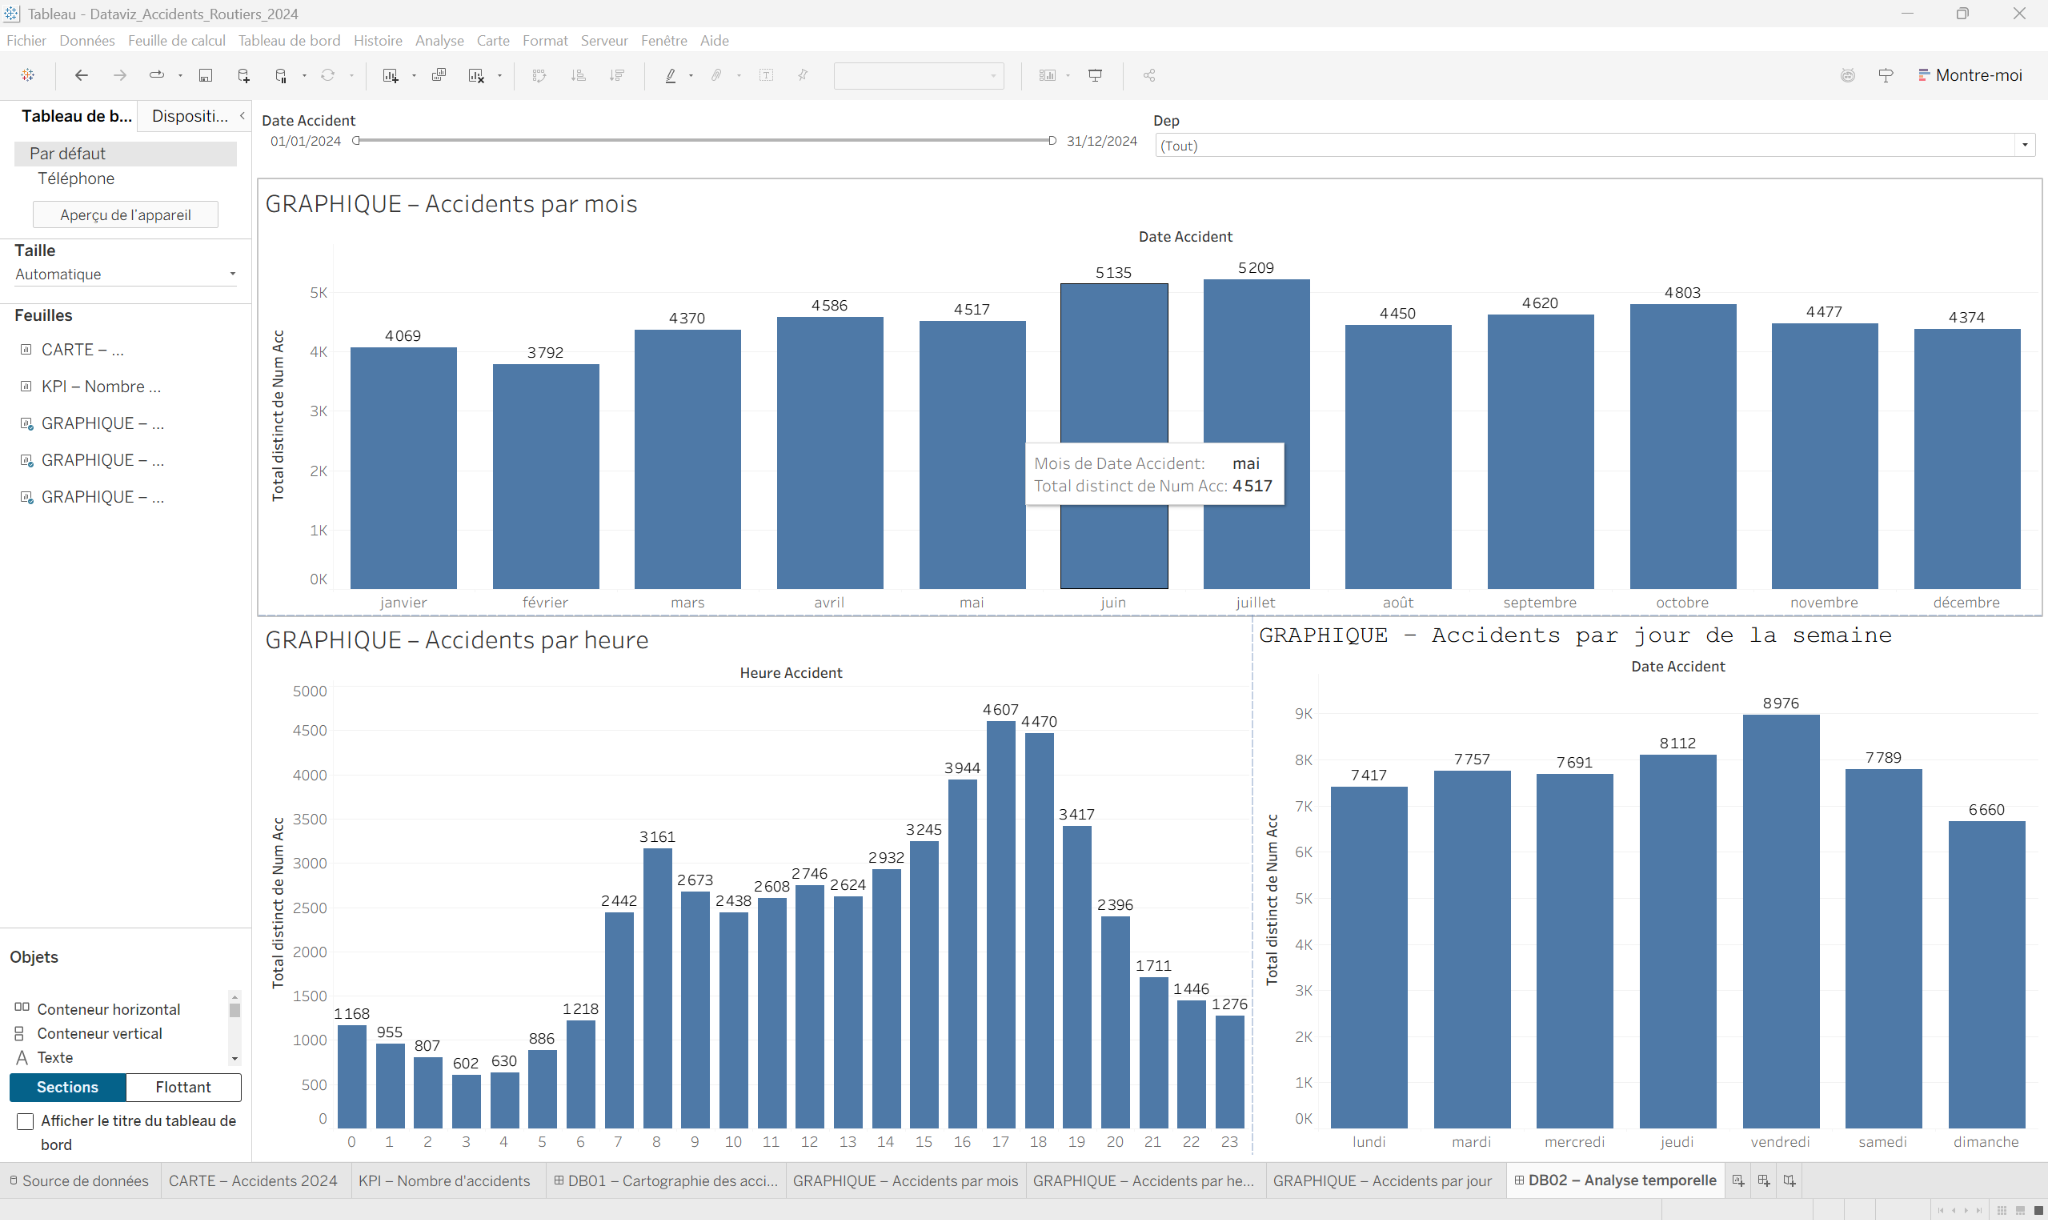

The dashboard page shown, as its layout file describes it:
{"tool":"tableau","page":{"name":"DB02 – Analyse temporelle","canvas":[1000,1000],"units":"permille","ordinal":1},"visuals":[{"type":"filter","title":"GRAPHIQUE – Accidents par mois","param":"[federated.1dc3qo30r3qsj61aflm3n1lx6kel].[none:Calculation_3093267443486720:qk]","box":[3.6,6,496.4,44.5]},{"type":"filter","title":"GRAPHIQUE – Accidents par mois","param":"[federated.1dc3qo30r3qsj61aflm3n1lx6kel].[none:dep:nk]","box":[500,6,496.4,52.8]},{"type":"worksheet","title":"GRAPHIQUE – Accidents par mois","mark":"Bar","rows":["Num_Acc"],"cols":["Calculation_3093267443486720"],"box":[3.6,74.7,992.9,411.2]},{"type":"worksheet","title":"GRAPHIQUE – Accidents par heure","mark":"Bar","rows":["Num_Acc"],"cols":["Calculation_1614424567455744"],"box":[3.6,485.9,553.6,508.1]},{"type":"worksheet","title":"GRAPHIQUE – Accidents par jour","mark":"Bar","rows":["Num_Acc"],"cols":["Calculation_3093267443486720"],"box":[557.1,485.9,439.3,508.1]}]}

Visuals, with their boxes on the dashboard's canvas, which has no fixed pixel size, in thousandths of its width and height (x1, y1, x2, y2). These are canvas units, not pixel positions in the 2048x1220 screenshot, which may show the page scaled, cropped or inside an application window:
"GRAPHIQUE – Accidents par mois" filter: (x1=4, y1=6, x2=500, y2=50)
"GRAPHIQUE – Accidents par mois" filter: (x1=500, y1=6, x2=996, y2=59)
"GRAPHIQUE – Accidents par mois" worksheet (Bar marks): (x1=4, y1=75, x2=996, y2=486)
"GRAPHIQUE – Accidents par heure" worksheet (Bar marks): (x1=4, y1=486, x2=557, y2=994)
"GRAPHIQUE – Accidents par jour" worksheet (Bar marks): (x1=557, y1=486, x2=996, y2=994)
